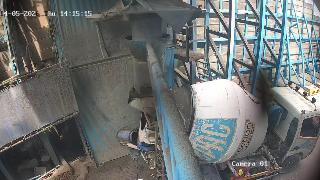cement_mixer_truck: (128, 79, 320, 180)
swing_chute: (125, 36, 171, 96)
